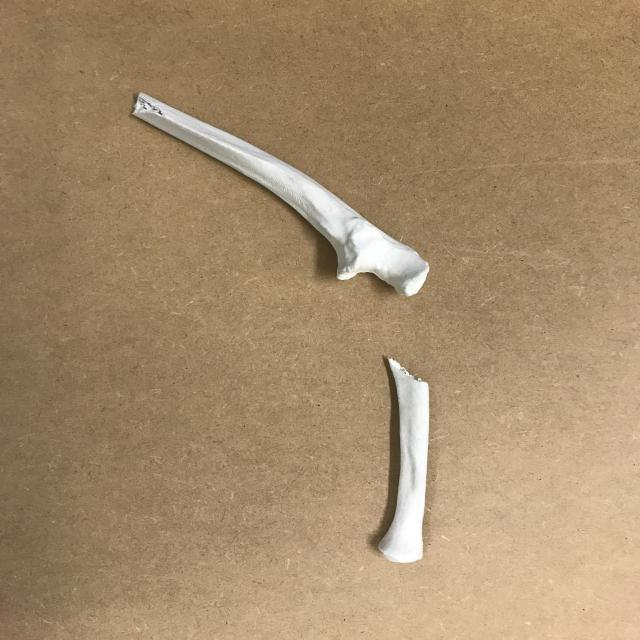bone: (129, 86, 438, 297), (368, 355, 444, 570)
